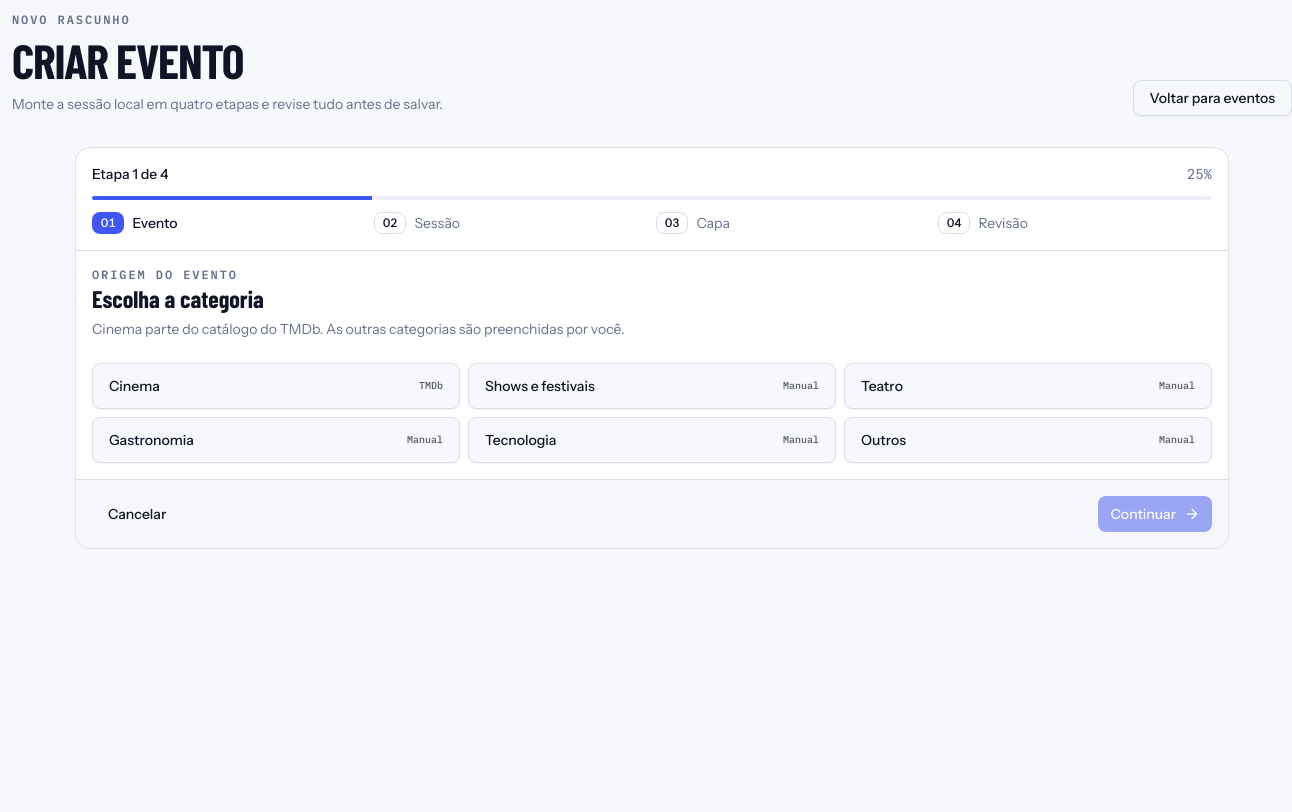
EventCreationForm › collects title and description manually outside cinema
Click the button with aria-label "Teatro, cadastro manual".
click(882, 386)  # box [844,363,1212,409]
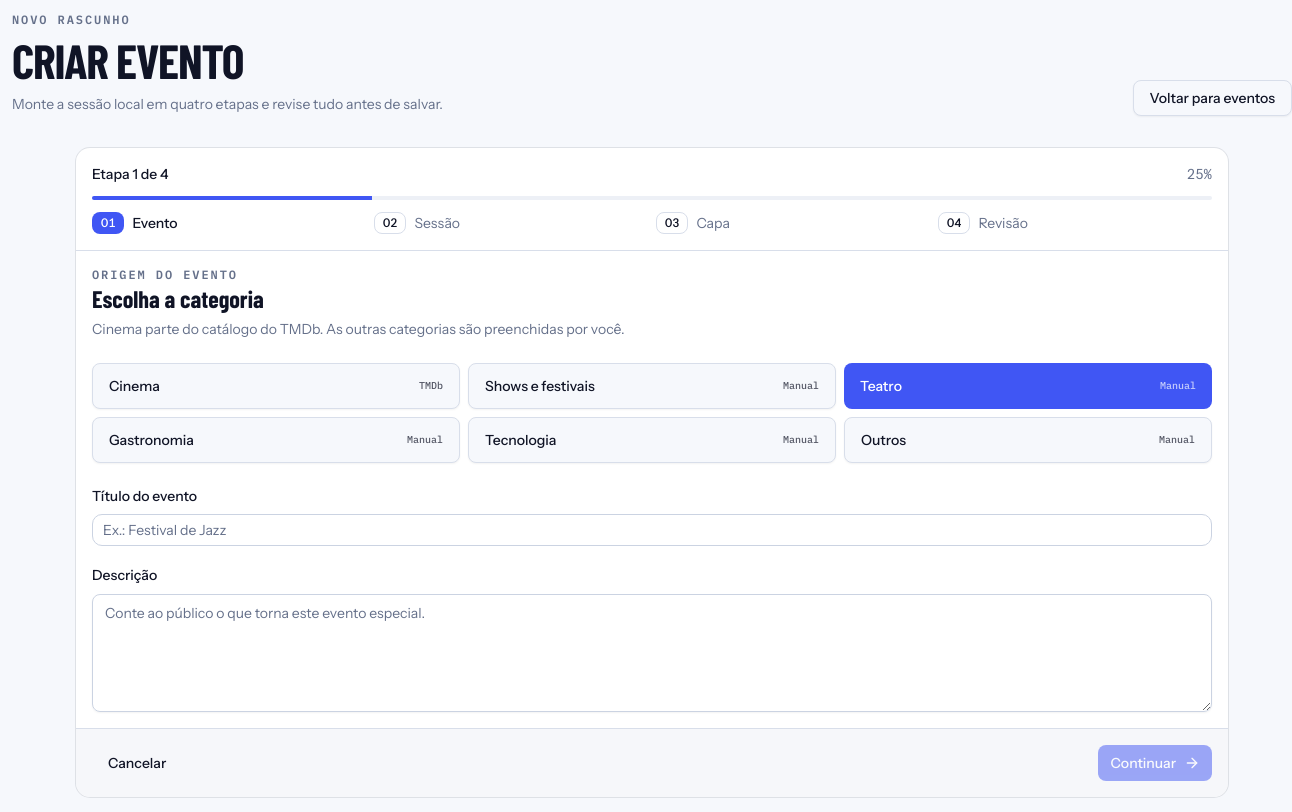
Type "Hamlet" into the field labelled "Título do evento".
click(652, 530); type("Hamlet")  # box [92,514,1212,546]
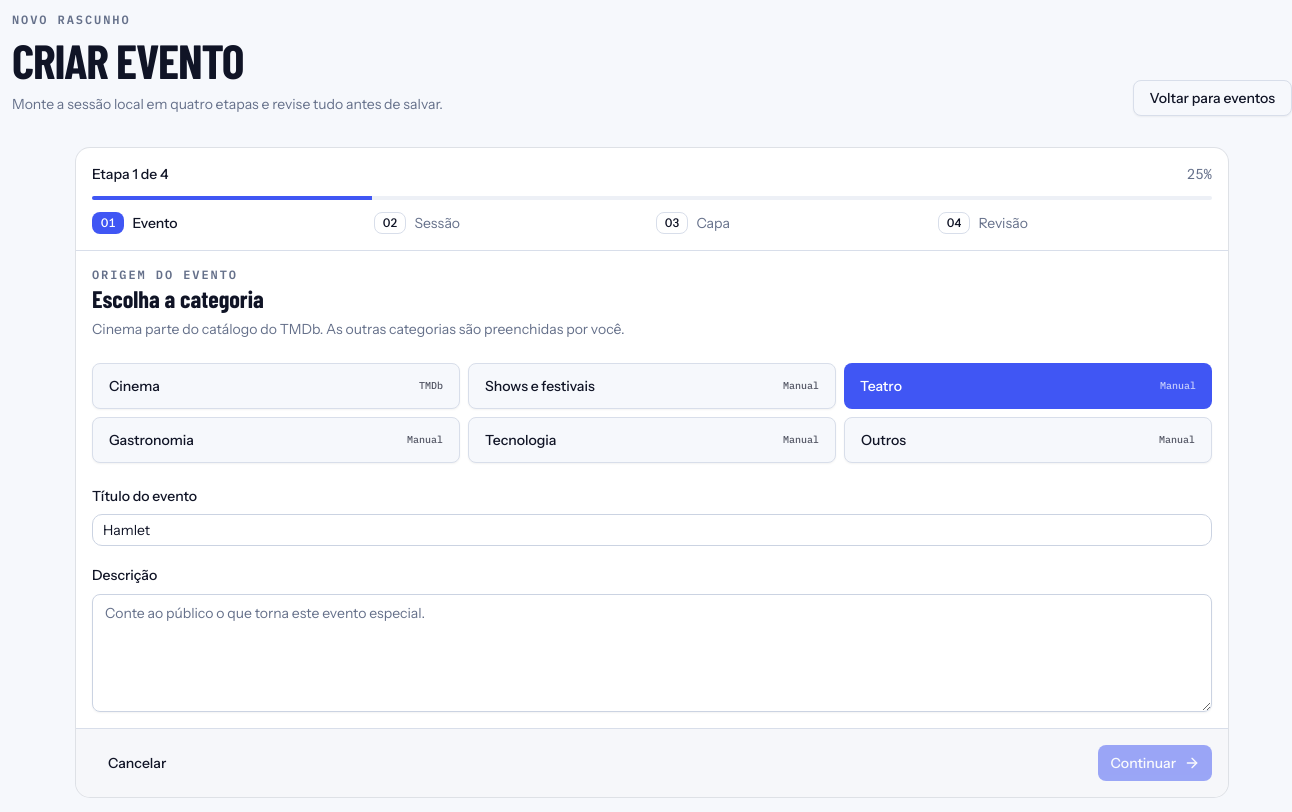
Type "Uma montagem contemporânea do clássico de Shakespeare." into the text box labelled "Descrição".
click(652, 652); type("Uma montagem contemporânea do clássico de Shakespeare.")  # box [92,594,1212,712]
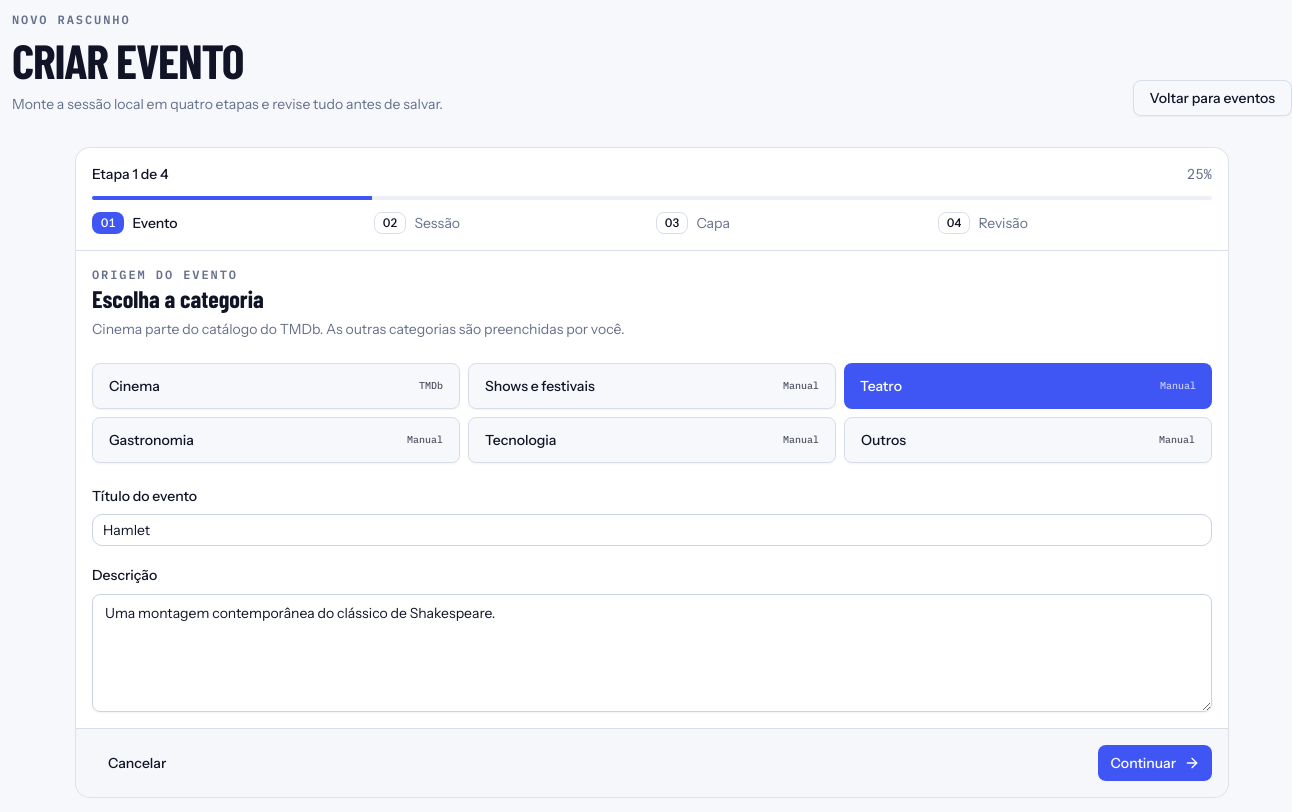
Click the button "Continuar".
click(1155, 762)  # box [1098,744,1212,780]
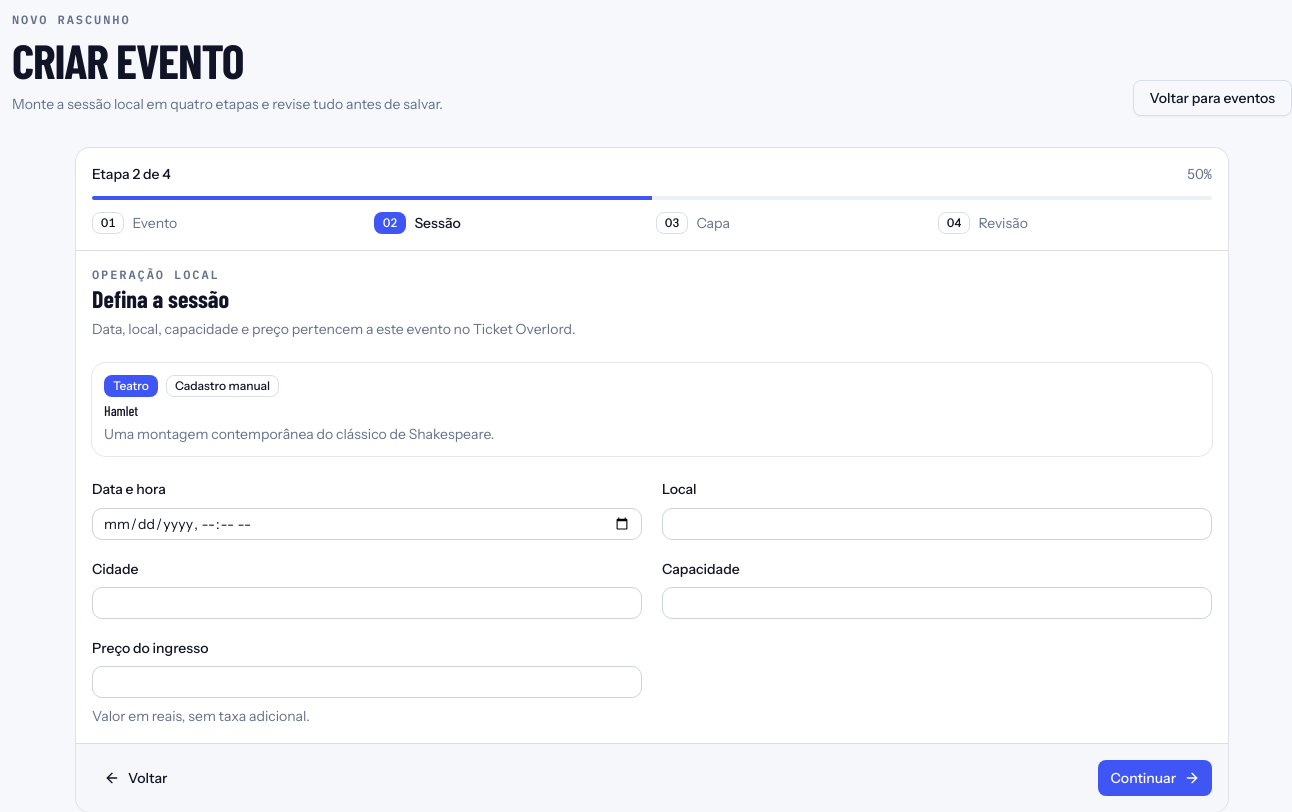
Now the heading "Defina a sessão" is shown, box [92,284,229,313]
Now the text "Cadastro manual" is shown, box [166,375,279,397]
